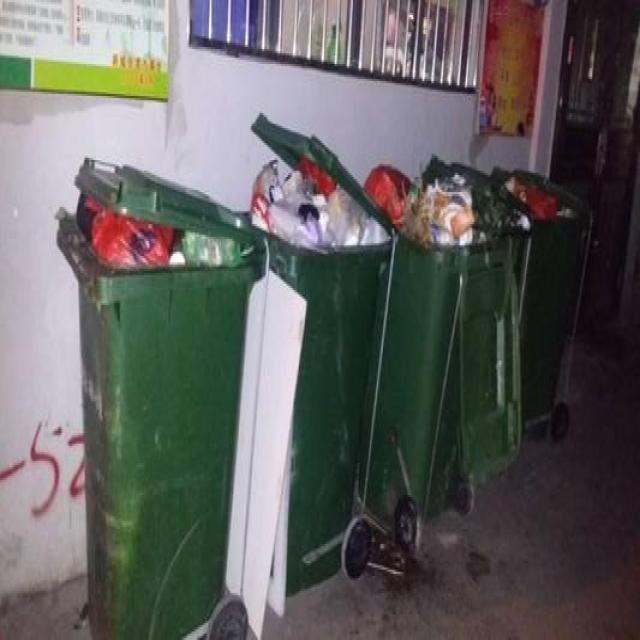overflow: (56, 151, 262, 638), (236, 111, 398, 595), (362, 160, 518, 531), (492, 167, 586, 436)
